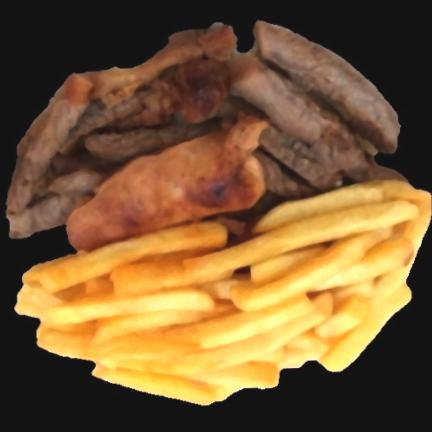chicken: (67, 117, 267, 249)
meat: (6, 21, 398, 237)
potato: (15, 182, 430, 404)
